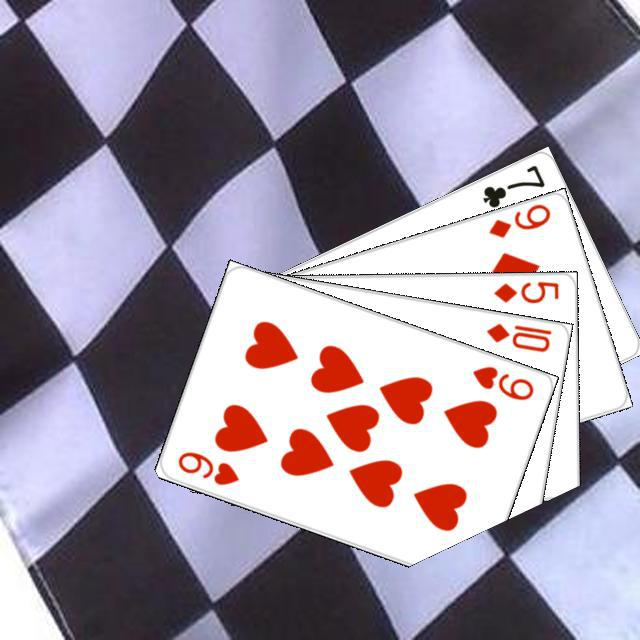10d: (481, 318, 554, 354)
5d: (489, 276, 561, 305)
7c: (477, 159, 547, 210)
9d: (483, 199, 552, 240)
9h: (467, 360, 536, 402), (172, 446, 241, 487)
